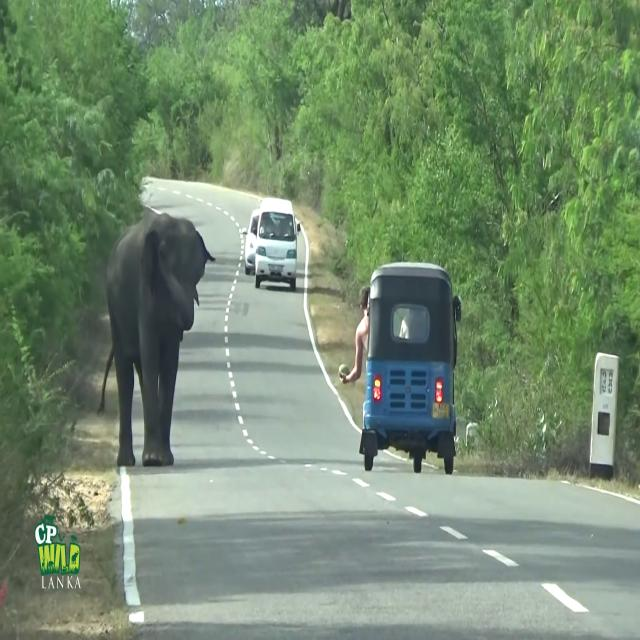Elephant: (97, 207, 216, 467)
